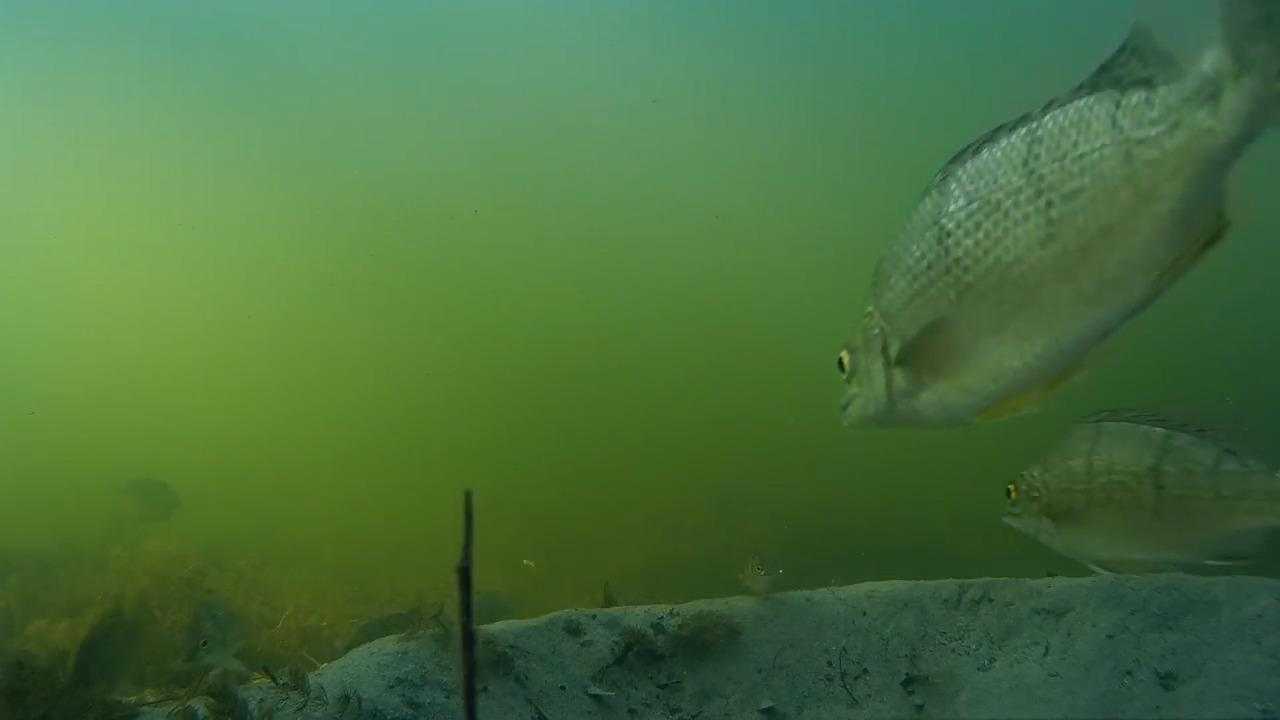Tilapia: (834, 13, 1268, 459), (997, 410, 1279, 579)
